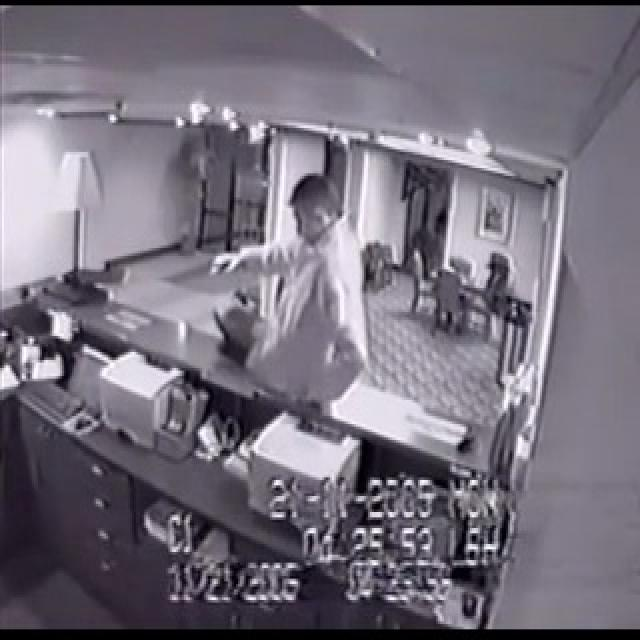thief: (202, 170, 378, 454)
